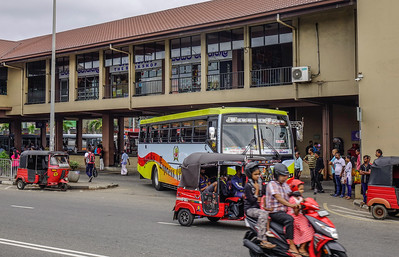bus: (137, 106, 295, 190)
motorbike: (243, 199, 347, 257)
threewheel: (172, 151, 285, 226), (14, 150, 71, 191), (365, 154, 399, 220)
